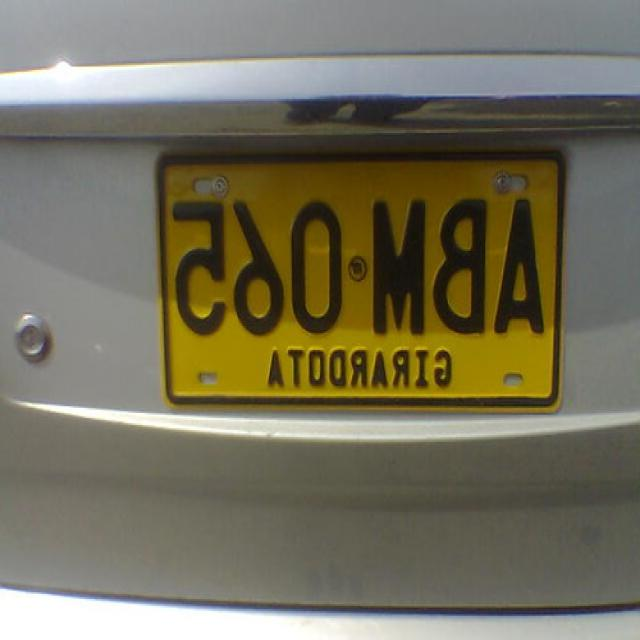placas: (154, 190, 554, 342)
